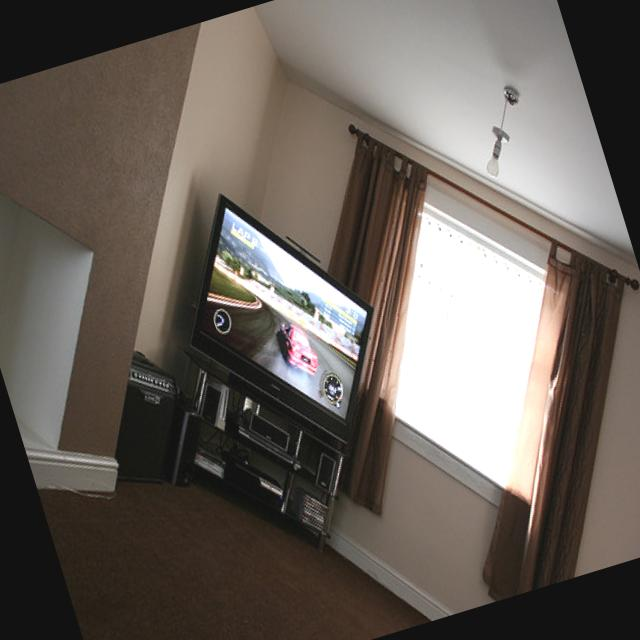Vehicle: (274, 318, 320, 382)
